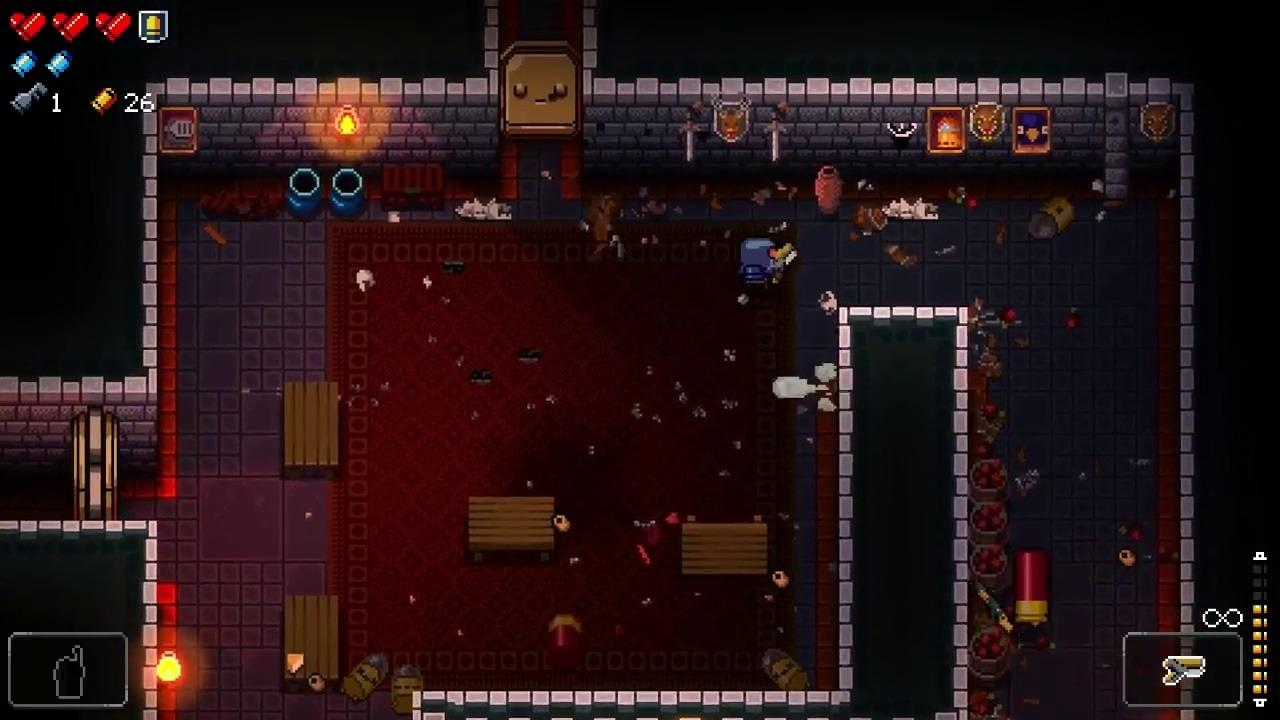dead_bullet_kin: (339, 651, 390, 702), (762, 646, 812, 691), (1028, 195, 1074, 239), (388, 663, 424, 716)
dead_red_shotgun_kin: (548, 614, 583, 668)
locked_door: (498, 39, 582, 141), (74, 403, 117, 520)
player: (739, 238, 776, 290)
red_shotgun_kin: (1015, 549, 1050, 626)
table: (469, 496, 554, 560), (284, 594, 339, 691), (681, 514, 768, 574), (285, 382, 340, 476)
